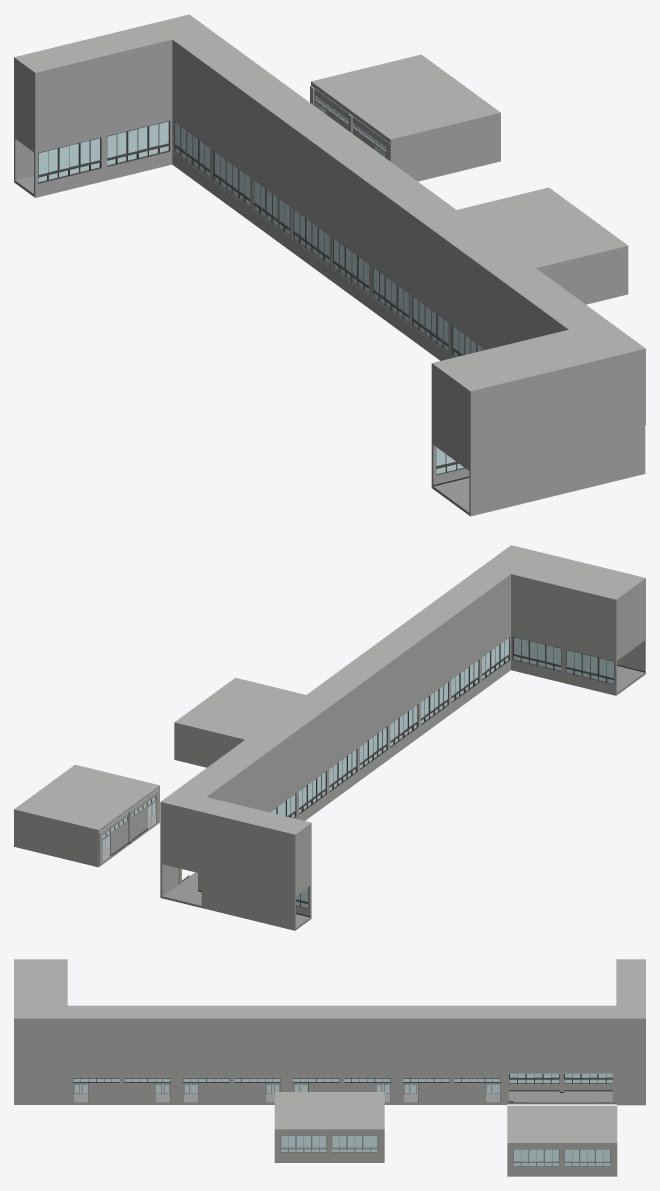
File: school.fbx
3 renders of one model, top to bottom at view 1: azimuth 30°, elevation 25°; view 2: azimuth 150°, elevation 25°; view 3: azimuth 270°, elevation 25°, orthographic. The views are drawn at different scales.
Visible parts, largest first — view 1: オブジェクト_122, オブジェクト_121, object 307, object 36, オブジェクト_354, オブジェクト_385, オブジェクト_329, オブジェクト_337; view 2: オブジェクト_121, オブジェクト_122, object 307, object 36, オブジェクト_385; view 3: オブジェクト_121, オブジェクト_354, object 307, object 36, オブジェクト_385, オブジェクト_355, オブジェクト_122, object 8, オブジェクト_247, オブジェクト_196, オブジェクト_213, オブジェクト_230 (+4 smaller).
Part boxes in pixels (bbox=[...]): オブジェクト_122: bbox=[35, 39, 569, 487]; オブジェクト_121: bbox=[14, 14, 645, 467]; object 307: bbox=[311, 54, 500, 181]; object 36: bbox=[457, 187, 628, 304]; オブジェクト_354: bbox=[469, 425, 645, 516]; オブジェクト_385: bbox=[15, 176, 469, 515]; オブジェクト_329: bbox=[107, 120, 170, 166]; オブジェクト_337: bbox=[38, 137, 101, 183]; オブジェクト_121: bbox=[160, 545, 645, 930]; オブジェクト_122: bbox=[206, 574, 616, 918]; object 307: bbox=[14, 764, 159, 867]; object 36: bbox=[174, 677, 305, 767]; オブジェクト_385: bbox=[162, 666, 644, 929]; オブジェクト_121: bbox=[14, 959, 645, 1105]; オブジェクト_354: bbox=[14, 1071, 508, 1104]; object 307: bbox=[507, 1105, 617, 1176]; object 36: bbox=[274, 1092, 384, 1162]; オブジェクト_385: bbox=[507, 1091, 616, 1104]; オブジェクト_355: bbox=[509, 1073, 612, 1091]; オブジェクト_122: bbox=[67, 959, 616, 1005]; object 8: bbox=[280, 1135, 327, 1152]; オブジェクト_247: bbox=[73, 1078, 170, 1081]; オブジェクト_196: bbox=[403, 1078, 500, 1081]; オブジェクト_213: bbox=[293, 1078, 390, 1081]; オブジェクト_230: bbox=[183, 1078, 280, 1081].
Size of the model in its own units: 2912 by 901 by 5954.
